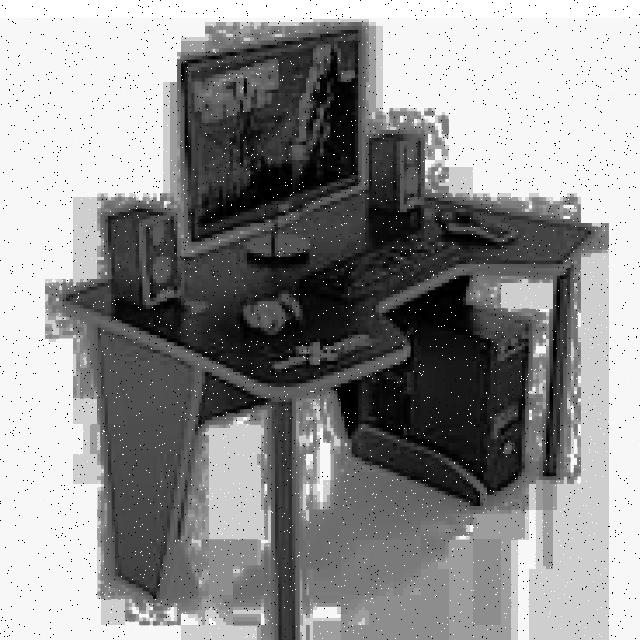table: (59, 186, 595, 640)
